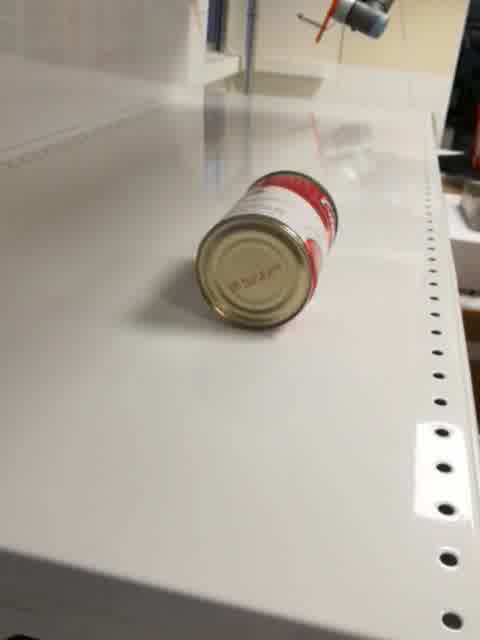tomatosoup: (192, 170, 342, 333)
